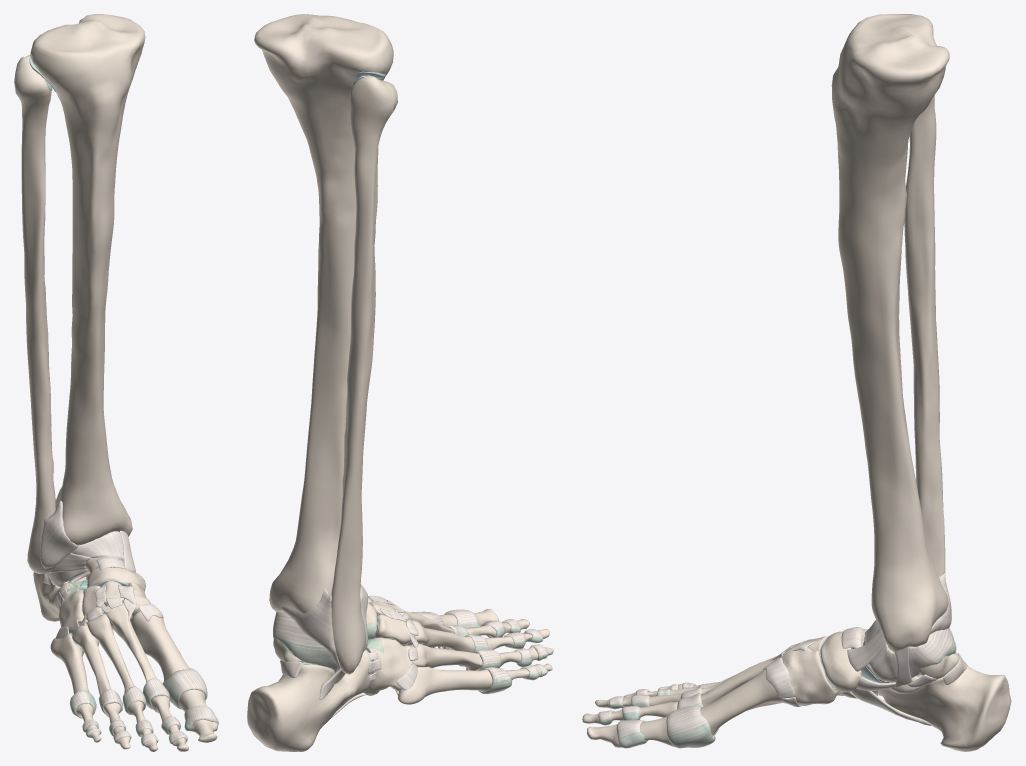
File: ankle-foot.glb
The picture shows the model from 3 angles, left to right: view 1: azimuth 30°, elevation 25°; view 2: azimuth 150°, elevation 25°; view 3: azimuth 270°, elevation 25°; orthographic projection. The views are drawn at different scales.
Visible parts, largest first — view 1: Tibia.r, Fibula.r, Articular capsules of metatarsophalangeal joints.r, First metatarsal bone.r, Anterior tibiofibular ligament.r, Capsule of talocrural joint.r, Second metatarsal bone.r, Fifth metatarsal bone.r, Third metatarsal bone.r, Articular capsules of proximal interphalangeal.r, Fourth metatarsal bone.r, Calcaneus.r (+10 smaller); view 2: Tibia.r, Fibula.r, Calcaneus.r, Fifth metatarsal bone.r, Cuboid bone.r, Capsule of talocrural joint.r, Posterior tibiofibular ligament.r, Articular capsules of metatarsophalangeal joints.r, Articular capsules of proximal interphalangeal.r, Fourth metatarsal bone.r, Third metatarsal bone.r, Dorsal tarsometatarsal ligaments.r (+2 smaller); view 3: Tibia.r, Fibula.r, Calcaneus.r, Capsule of talocrural joint.r, First metatarsal bone.r, Medial cuneiform bone.r, Articular capsules of metatarsophalangeal joints.r, Navicular bone.r, Articular capsules of proximal interphalangeal.r, Second metatarsal bone.r, Dorsal tarsometatarsal ligaments.r, Tibionavicular ligament.r.
Boxes of the visible parts, <box> form: Tibia.r: <box>30,14,145,545</box>; Fibula.r: <box>14,55,56,574</box>; Articular capsules of metatarsophalangeal joints.r: <box>70,668,207,718</box>; First metatarsal bone.r: <box>131,611,189,681</box>; Anterior tibiofibular ligament.r: <box>40,501,77,568</box>; Capsule of talocrural joint.r: <box>48,531,123,587</box>; Second metatarsal bone.r: <box>106,603,156,682</box>; Fifth metatarsal bone.r: <box>50,633,89,693</box>; Third metatarsal bone.r: <box>87,614,134,693</box>; Articular capsules of proximal interphalangeal.r: <box>82,705,218,736</box>; Fourth metatarsal bone.r: <box>72,623,110,695</box>; Calcaneus.r: <box>33,572,87,621</box>; Tibia.r: <box>254,14,393,613</box>; Fibula.r: <box>331,75,397,674</box>; Calcaneus.r: <box>247,649,371,751</box>; Fifth metatarsal bone.r: <box>398,666,492,704</box>; Cuboid bone.r: <box>363,637,412,695</box>; Capsule of talocrural joint.r: <box>273,611,345,683</box>; Posterior tibiofibular ligament.r: <box>281,589,340,667</box>; Articular capsules of metatarsophalangeal joints.r: <box>411,611,511,693</box>; Articular capsules of proximal interphalangeal.r: <box>444,609,538,680</box>; Fourth metatarsal bone.r: <box>409,643,482,670</box>; Third metatarsal bone.r: <box>402,620,474,652</box>; Dorsal tarsometatarsal ligaments.r: <box>387,600,418,690</box>; Tibia.r: <box>831,14,949,652</box>; Fibula.r: <box>904,35,945,576</box>; Calcaneus.r: <box>878,653,1011,751</box>; Capsule of talocrural joint.r: <box>863,620,955,682</box>; First metatarsal bone.r: <box>700,669,786,735</box>; Medial cuneiform bone.r: <box>779,647,837,705</box>; Articular capsules of metatarsophalangeal joints.r: <box>666,683,718,748</box>; Navicular bone.r: <box>820,631,861,692</box>; Articular capsules of proximal interphalangeal.r: <box>616,682,695,748</box>; Second metatarsal bone.r: <box>700,648,789,706</box>; Dorsal tarsometatarsal ligaments.r: <box>763,640,806,698</box>; Tibionavicular ligament.r: <box>847,629,886,671</box>.
Size of the model in its own units: 0.1097 by 0.4258 by 0.2306.
32 materials, 2 textured.
